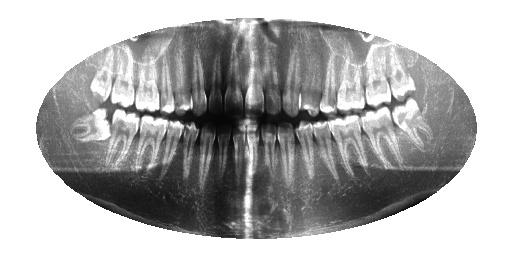Cavity: (222, 49, 245, 117), (215, 121, 234, 185)
Impacted Tooth: (67, 103, 111, 148)
